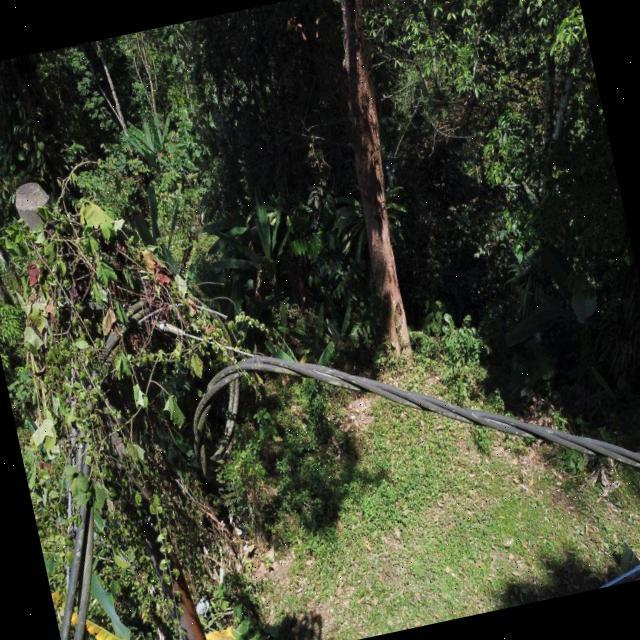critical vegetation: (0, 152, 307, 617)
